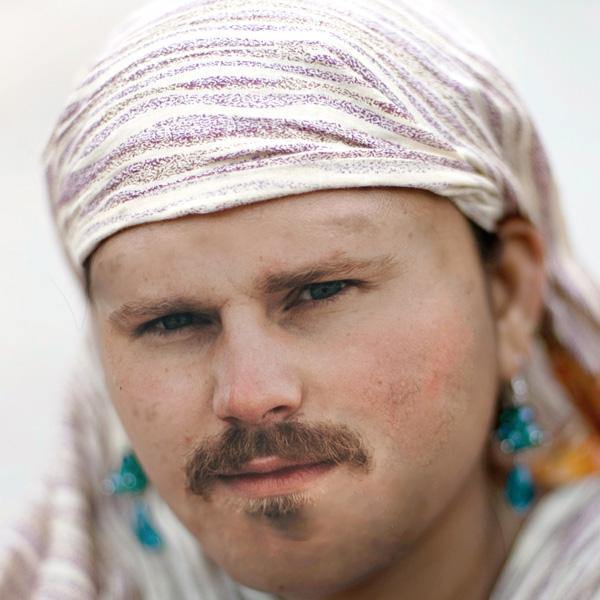Eyes: (271, 265, 370, 324), (126, 299, 222, 348)
